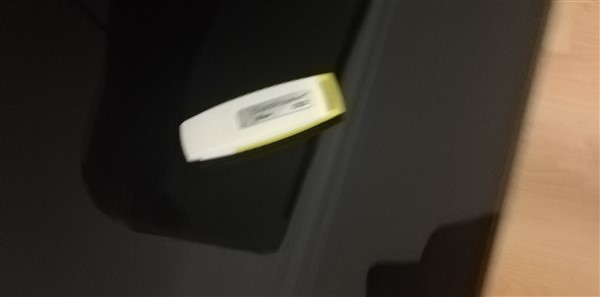flash disk: (177, 66, 345, 170)
